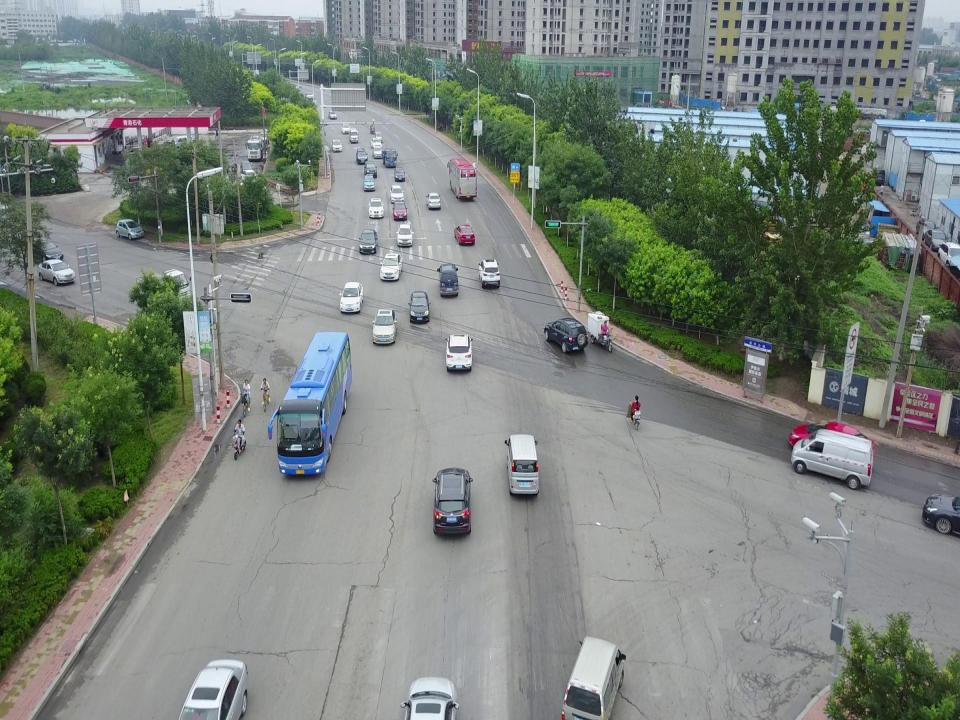bus: (269, 331, 353, 481), (448, 159, 476, 200)
car: (181, 660, 248, 720), (790, 418, 878, 461), (433, 469, 473, 538), (401, 678, 458, 720), (921, 490, 960, 536), (544, 315, 589, 354), (443, 335, 475, 370), (371, 307, 398, 345), (24, 240, 64, 264), (38, 260, 76, 285), (340, 281, 364, 313), (479, 257, 501, 289), (378, 254, 402, 282), (115, 218, 145, 240), (408, 291, 430, 320), (924, 228, 950, 252), (936, 242, 960, 268), (453, 224, 476, 247), (358, 230, 378, 252), (367, 197, 385, 218), (396, 226, 414, 246), (392, 202, 408, 222), (425, 192, 441, 211), (388, 185, 404, 203), (240, 169, 256, 185), (363, 174, 376, 191), (356, 148, 368, 166), (364, 161, 377, 177), (239, 159, 253, 172), (332, 139, 344, 154), (394, 168, 406, 182), (371, 138, 383, 151), (372, 147, 384, 159), (341, 123, 352, 136), (328, 109, 336, 120), (306, 92, 314, 101)
truck: (135, 267, 191, 310), (246, 135, 264, 159), (382, 149, 398, 169), (258, 131, 270, 145), (374, 132, 383, 144)
van: (558, 634, 626, 720), (792, 428, 874, 493), (504, 434, 541, 497), (437, 264, 459, 298), (915, 219, 939, 242), (870, 167, 886, 186), (348, 128, 358, 144)
